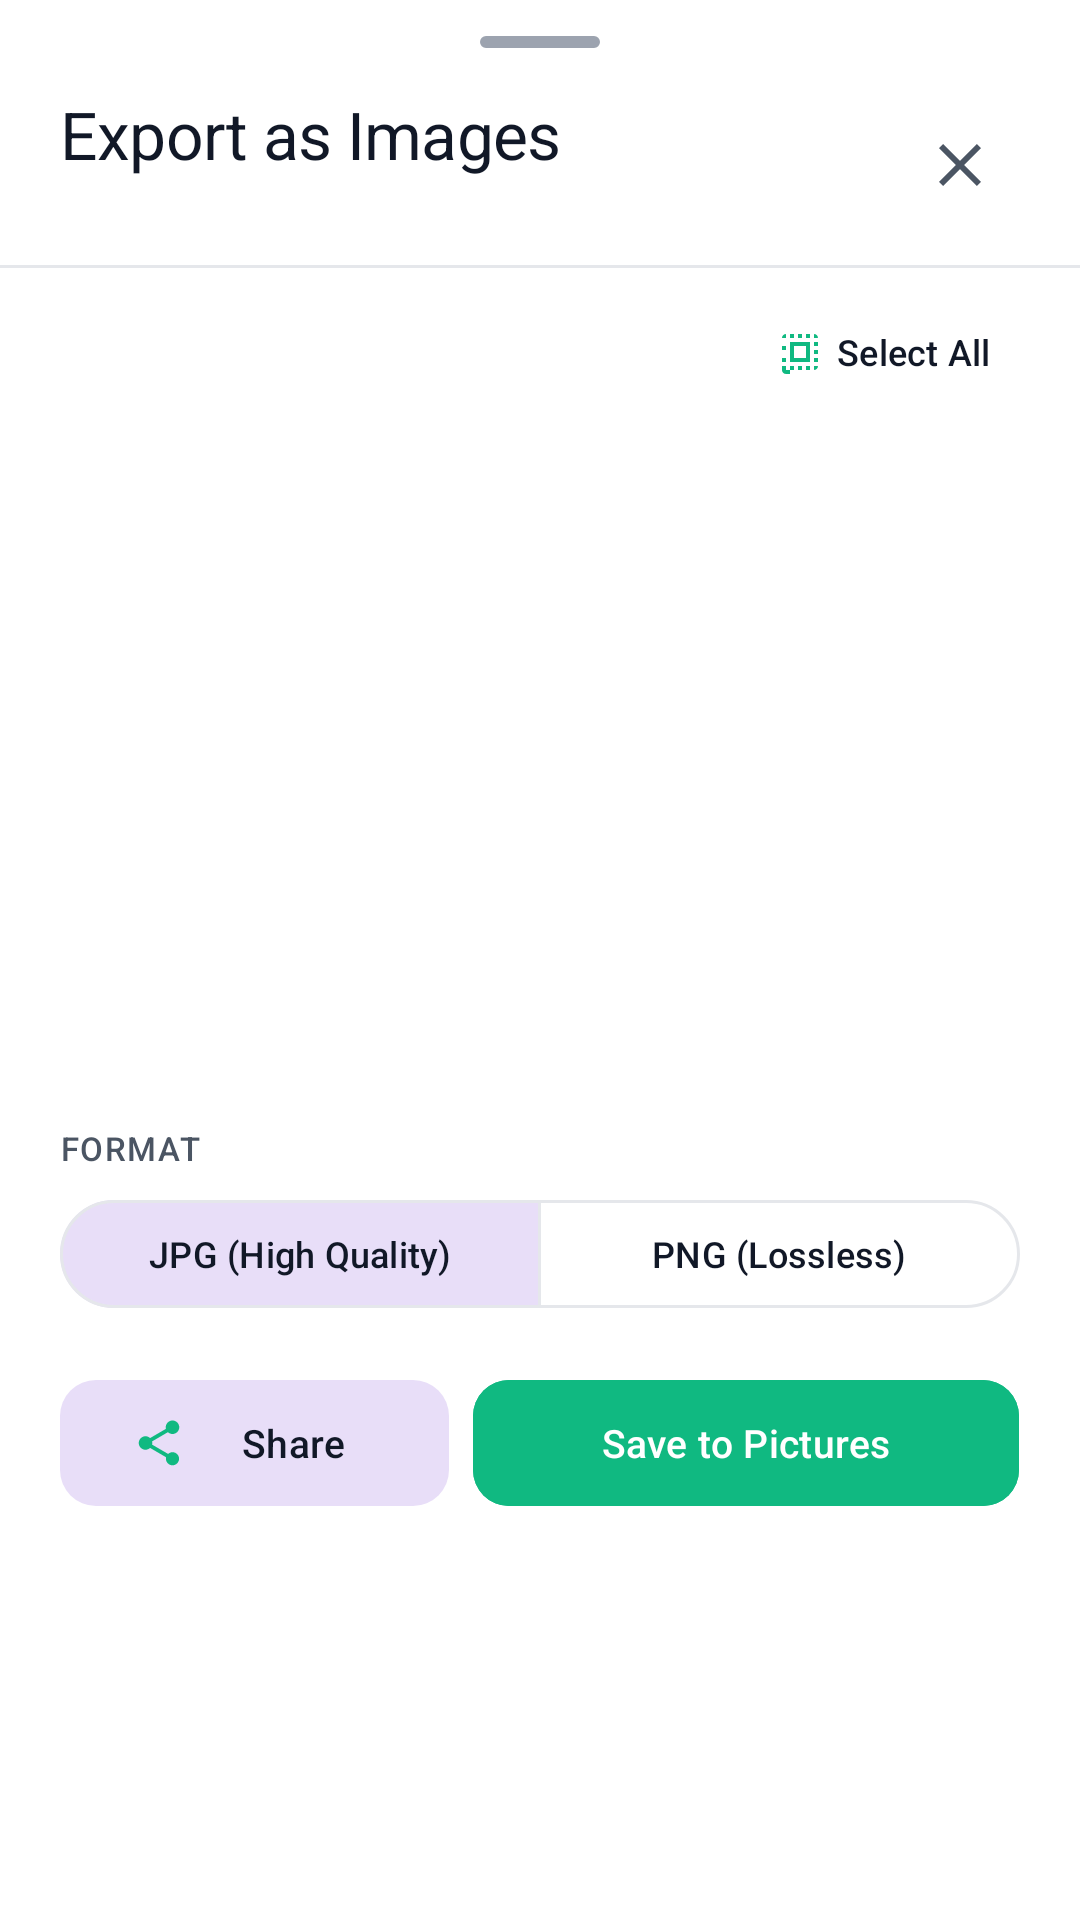

Named icons in this screenshot (1080w x 1920h) and their centers, point (x, y):
Close: point (960, 165)
